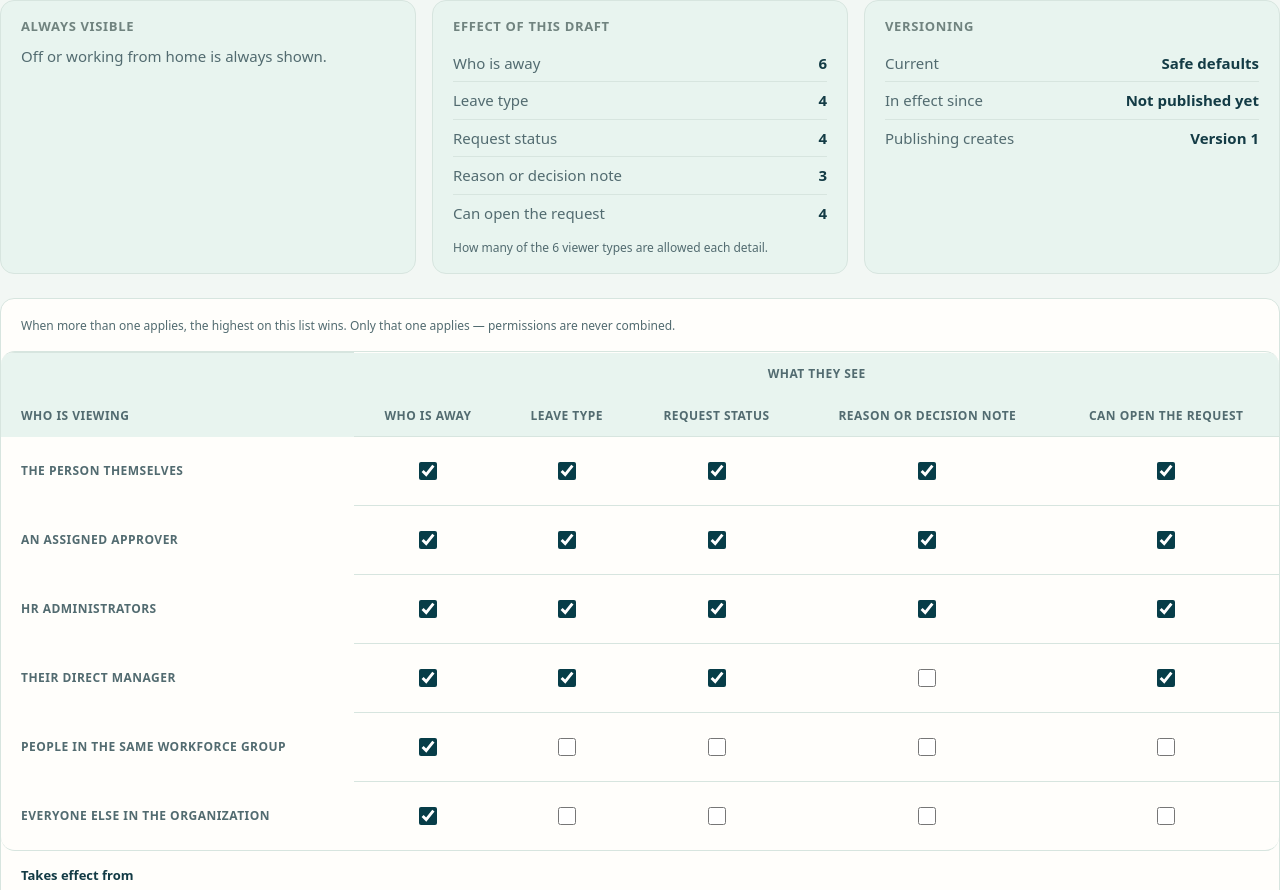
Test: CalendarPrivacySettingsPage › counts the tally off the draft, so it moves with an unpublished edit
Expected: the table with test id "calendar-privacy-matrix" is shown, [1,352,1279,850]
Expected: the text with test id "privacy-effect-LEAVE_TYPE" reads "4", [818,90,827,110]
Click the checkbox with test id "calendar-privacy-ORGANIZATION_PEER-LEAVE_TYPE" at (567, 816), box [558,807,576,825]
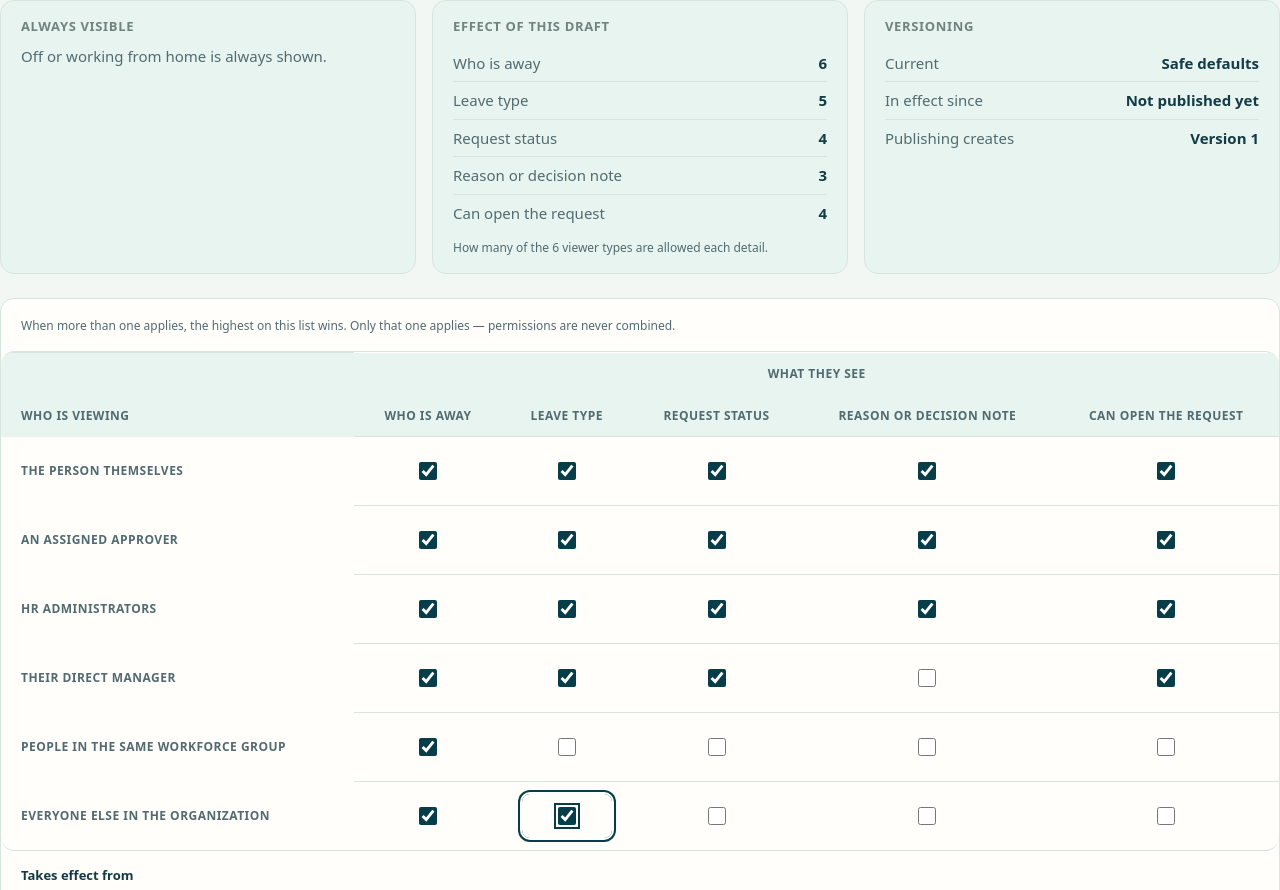
Expected: the text with test id "privacy-effect-LEAVE_TYPE" reads "5", [818,90,827,110]
